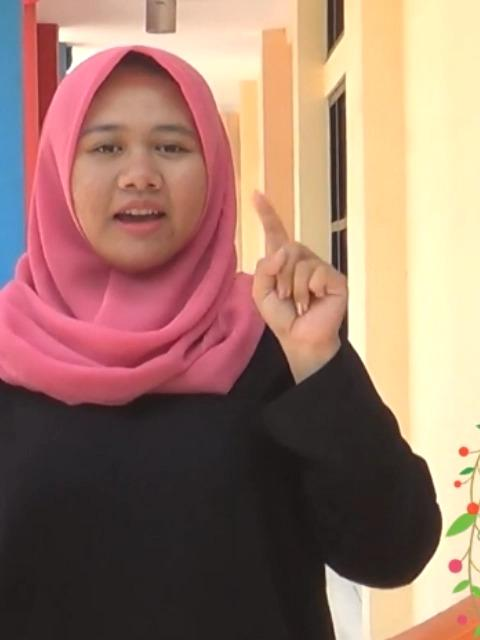Z: (242, 190, 356, 348)
